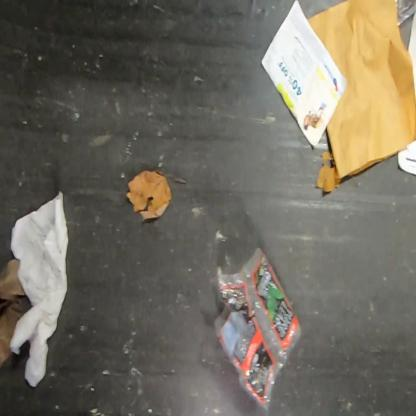soft_plastic: (213, 246, 305, 414)
